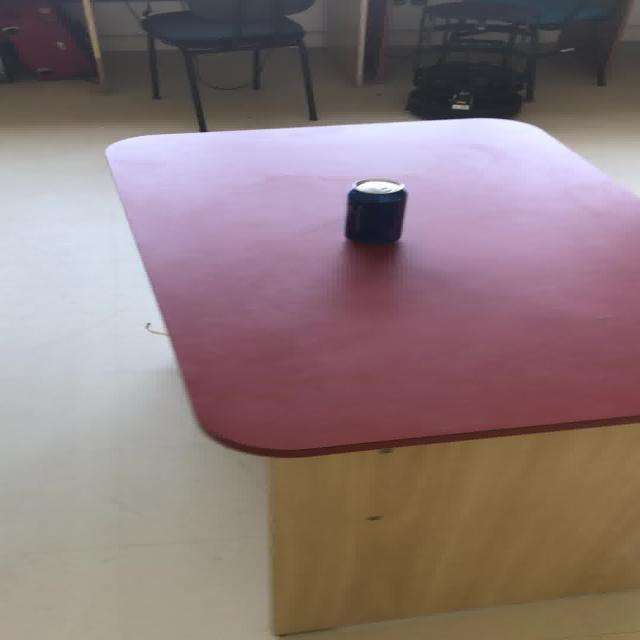tonic: (342, 178, 407, 244)
